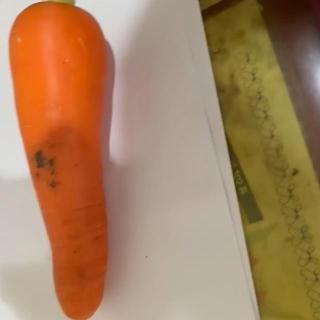carrot: (8, 0, 110, 320)
